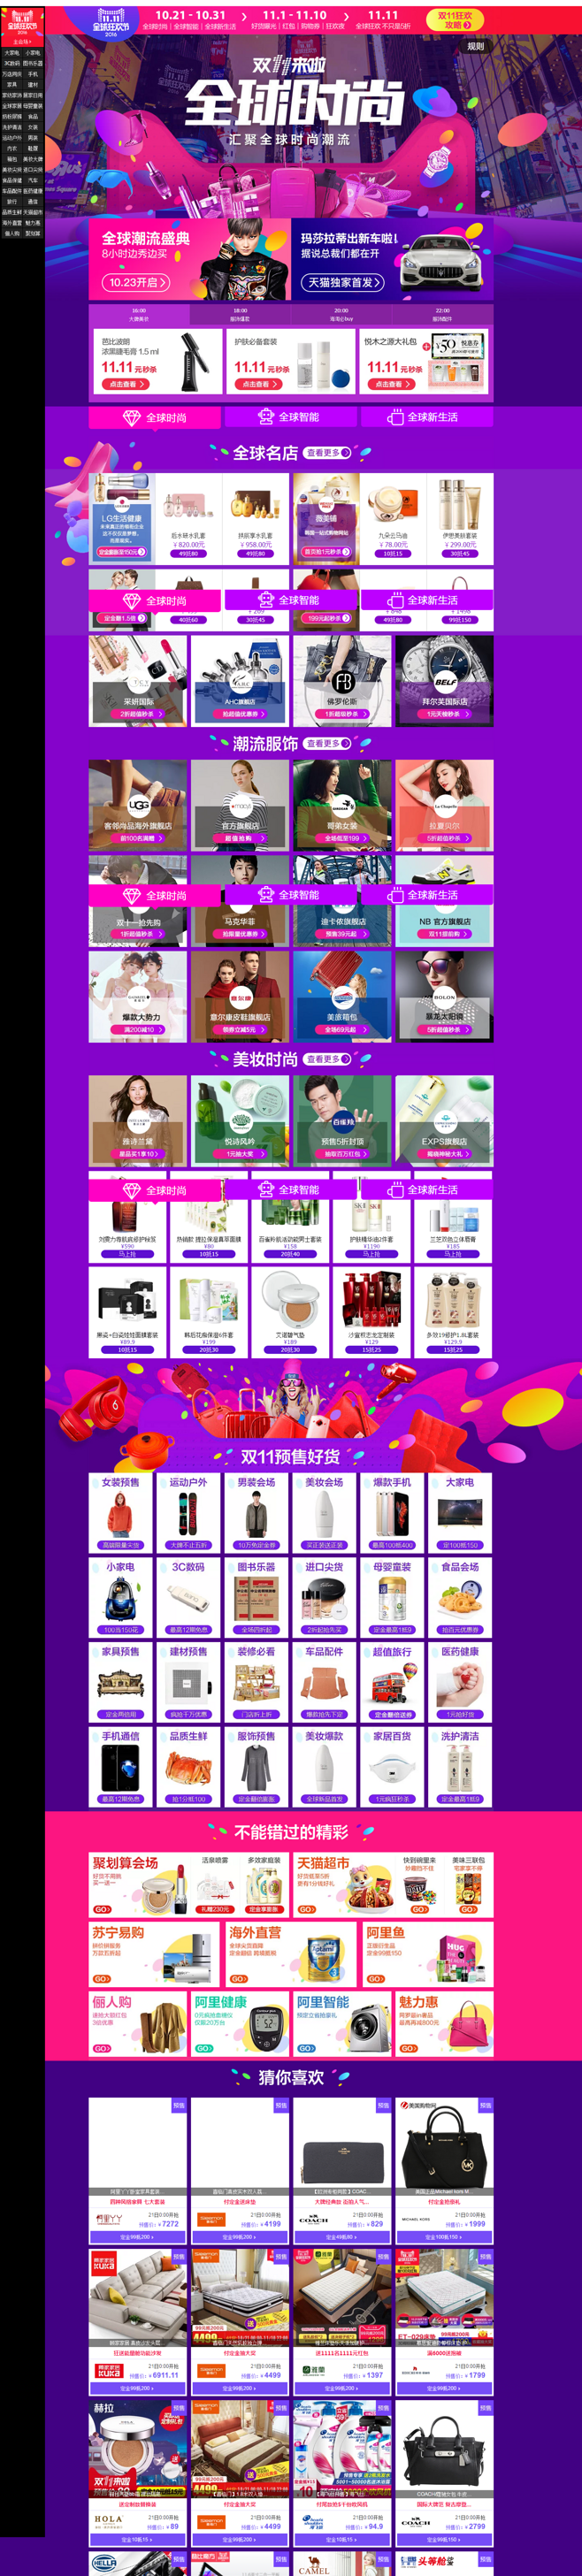floors: (85, 2067, 498, 2550), (85, 1367, 497, 1810), (85, 1048, 501, 1364), (85, 734, 498, 1045), (85, 440, 498, 731), (85, 1819, 501, 2062), (46, 304, 582, 407), (46, 218, 582, 304)
toutu: (46, 7, 582, 217)
